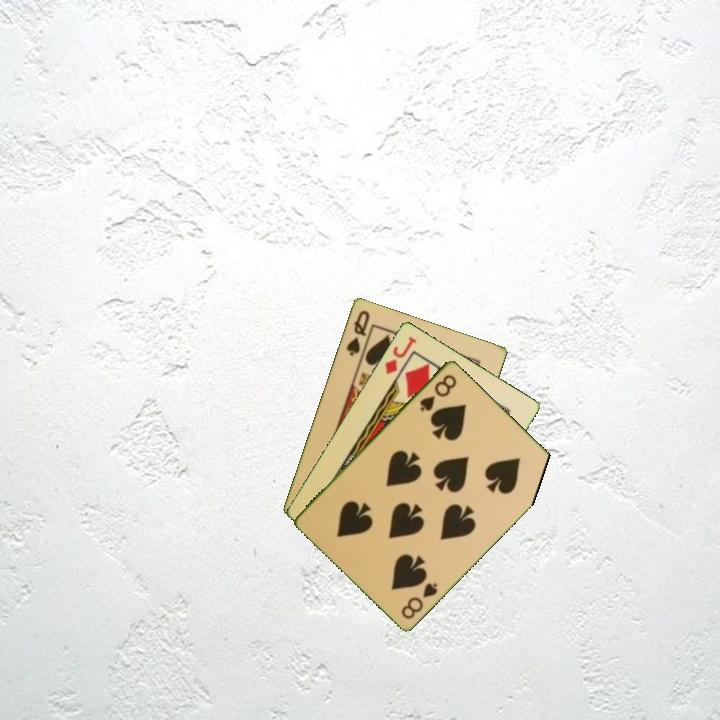8s: (416, 370, 460, 414), (398, 579, 440, 622)
Jd: (381, 332, 420, 377)
Qs: (342, 306, 372, 359)
